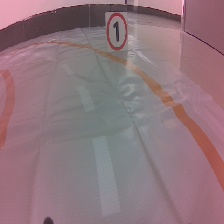limit: (103, 8, 131, 54)
